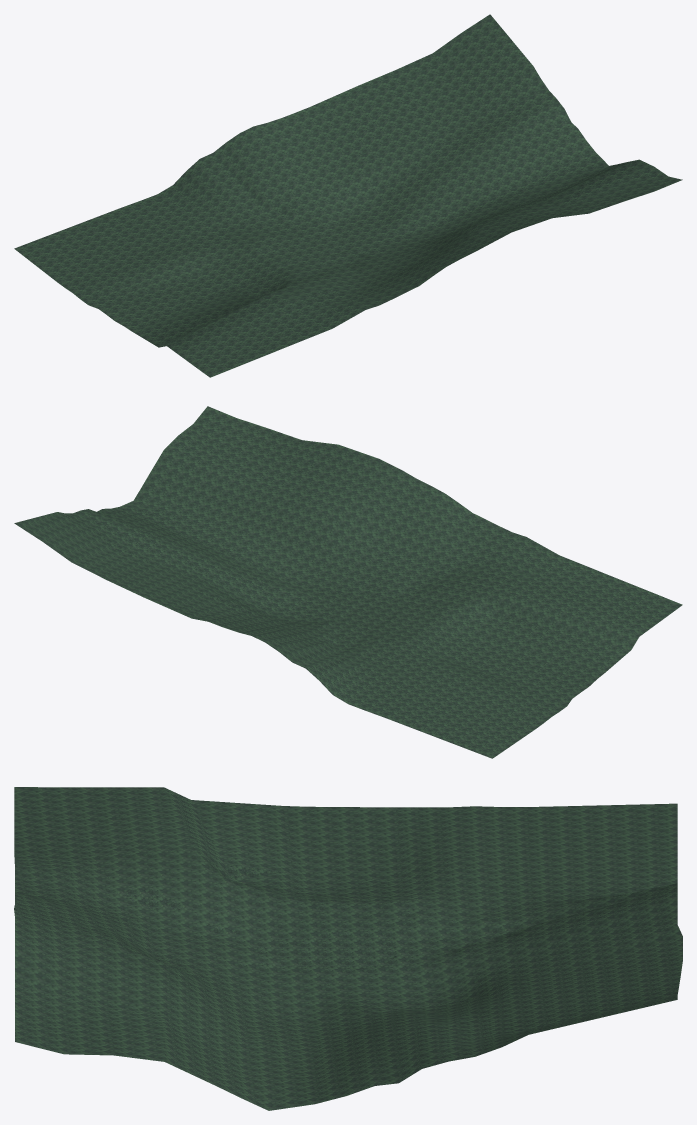
File: Ground.fbx
3 renders of one model, top to bottom at view 1: azimuth 30°, elevation 25°; view 2: azimuth 150°, elevation 25°; view 3: azimuth 270°, elevation 25°, orthographic. The views are drawn at different scales.
Visible parts, largest first — view 1: SM_d_109_Ground_01a; view 2: SM_d_109_Ground_01a; view 3: SM_d_109_Ground_01a.
Boxes of the visible parts, x1,y1,x2,y2 form: SM_d_109_Ground_01a: (14,14,682,377); SM_d_109_Ground_01a: (14,406,682,758); SM_d_109_Ground_01a: (14,787,682,1110).
Size of the model in its own units: 35515 by 8583 by 25134.
